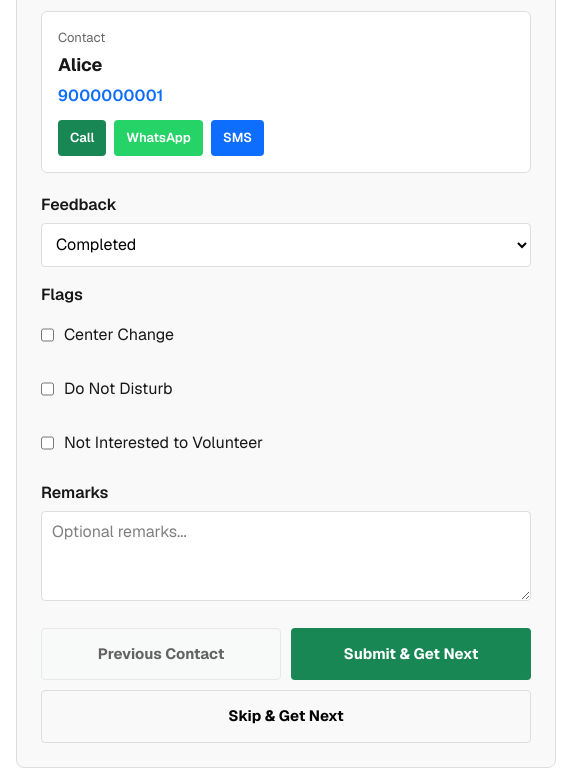
Test: CampaignCallScreen › allows going back to previous contact after moving to next
(page scrolled)
Expected: the text "Alice" is shown, [58, 53, 102, 76]
Expected: the button "Previous Contact" is disabled, [41, 628, 281, 680]
Click the button "Submit & Get Next": (411, 654) [291, 628, 531, 680]
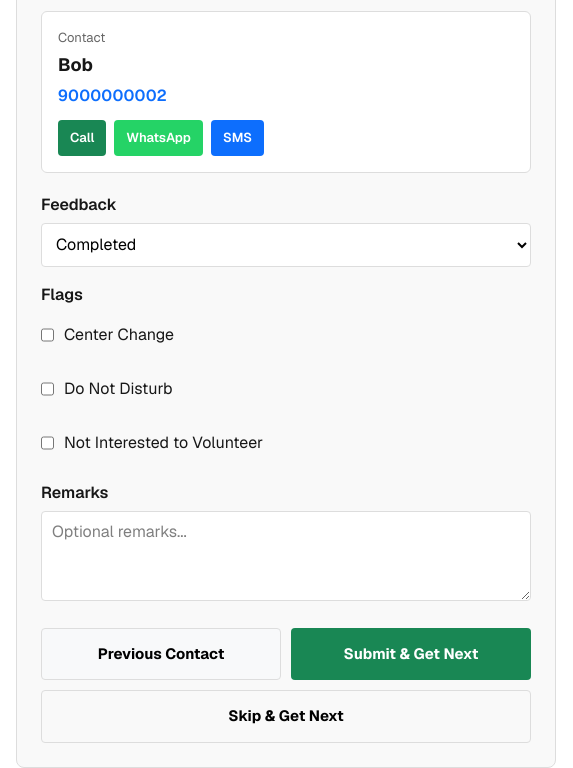
Expected: the text "Bob" is shown, [58, 53, 93, 76]
Expected: the button "Previous Contact" is enabled
Click the button "Previous Contact": (161, 654) [41, 628, 281, 680]
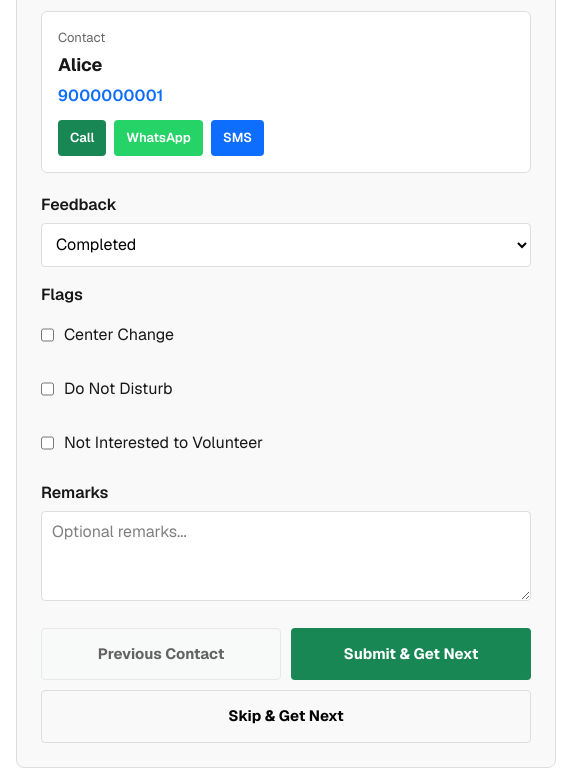
Expected: the text "Alice" is shown, [58, 53, 102, 76]
Expected: the text "Bob" is gone
Expected: the button "Previous Contact" is disabled, [41, 628, 281, 680]
